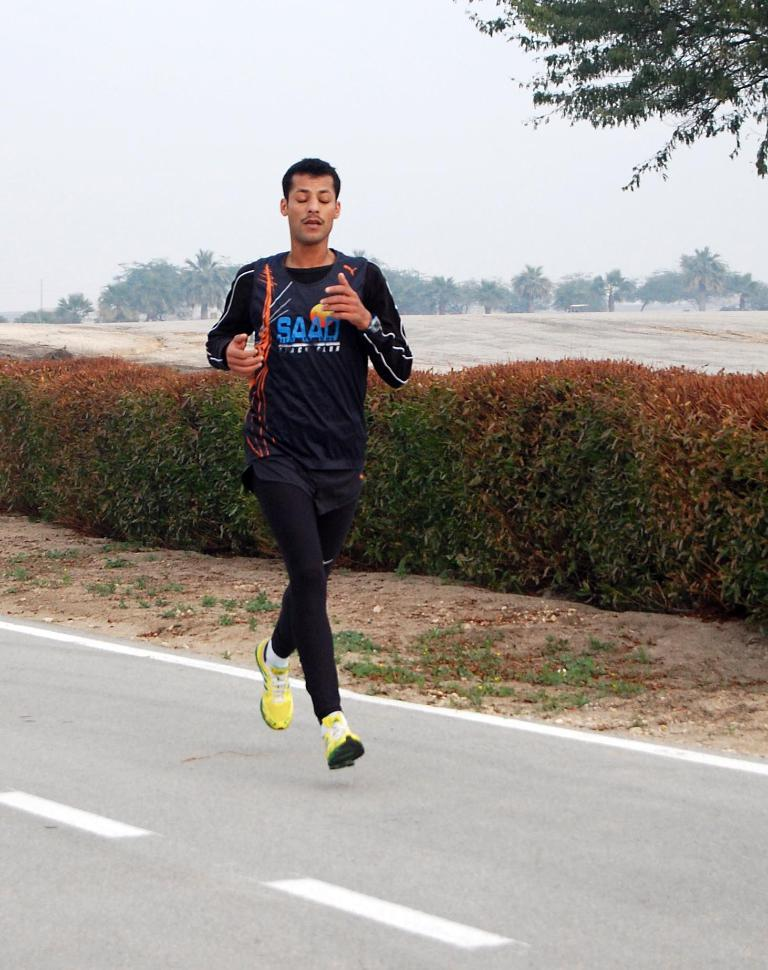Person: (205, 157, 413, 769)
